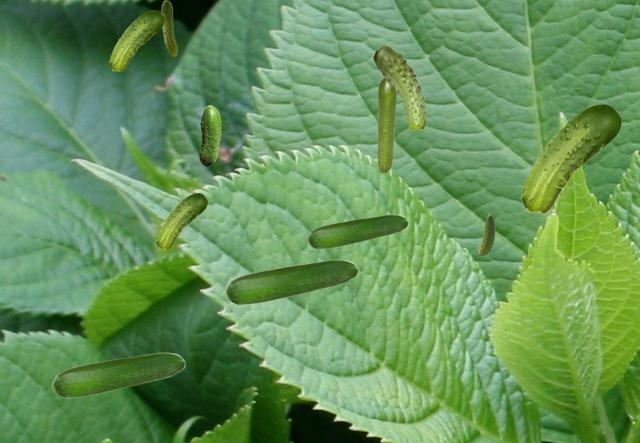cucumber: (521, 104, 620, 212), (52, 352, 184, 397), (225, 259, 357, 304), (373, 45, 426, 127), (307, 214, 407, 248), (109, 10, 163, 70), (156, 193, 206, 248), (377, 78, 395, 172), (199, 105, 220, 165), (161, 0, 176, 55), (476, 213, 494, 255)
